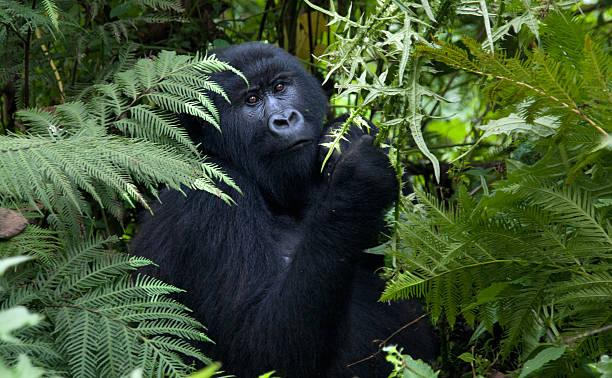goriile_montagne: (135, 0, 438, 378)
